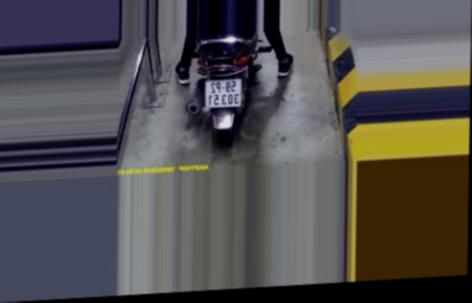License_Plate: (203, 74, 246, 110)
